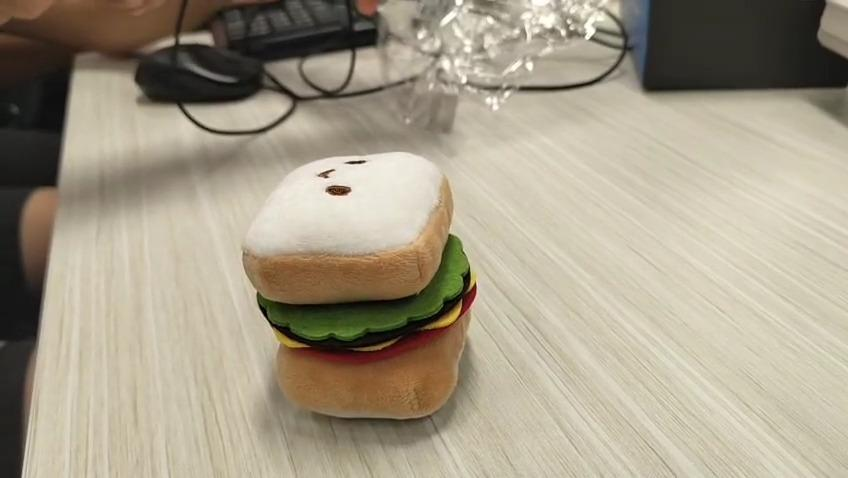objects: (242, 153, 479, 421)
